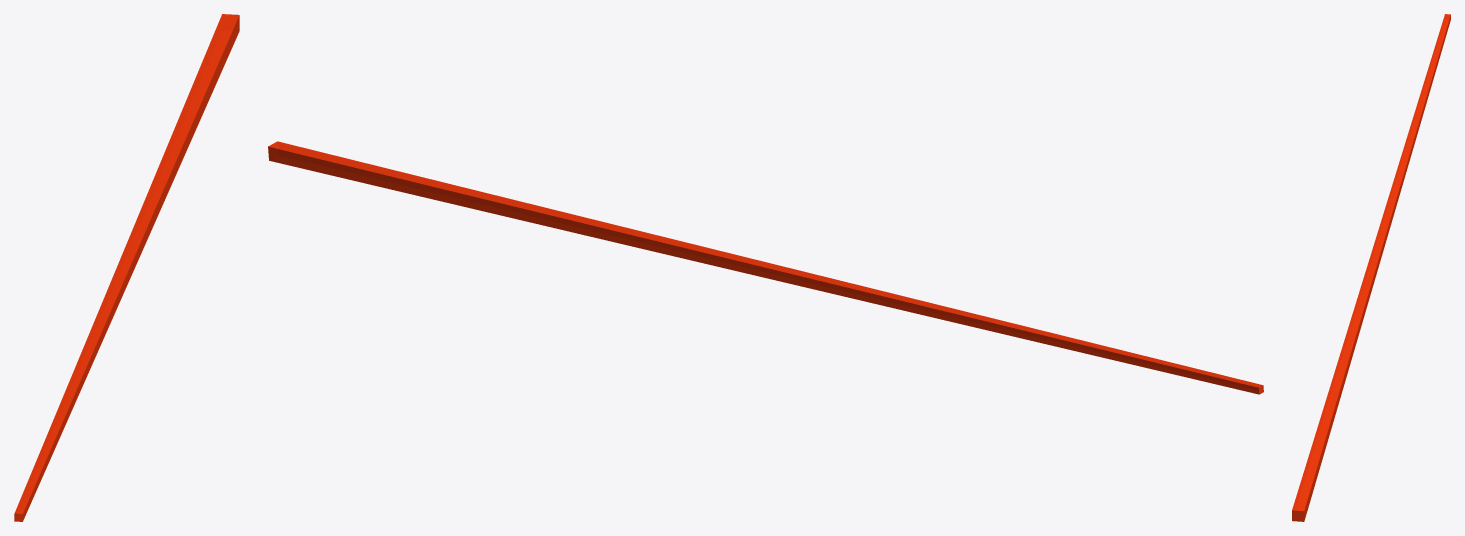
File: Event_420107950_EErechit_75.fbx
The picture shows the model from 3 angles, left to right: view 1: azimuth 90°, elevation 25°; view 2: azimuth 150°, elevation 25°; view 3: azimuth 270°, elevation 25°; orthographic projection. The views are drawn at different scales.
Parts seen in each view (by area): view 1: Model; view 2: Model; view 3: Model.
Part boxes in pixels (x1,y1,x2,y2): Model: (14, 14, 239, 521); Model: (268, 141, 1263, 394); Model: (1292, 14, 1450, 521).
Bounding box in the file's own units: 12.19 × 1.11 × 1.93.
